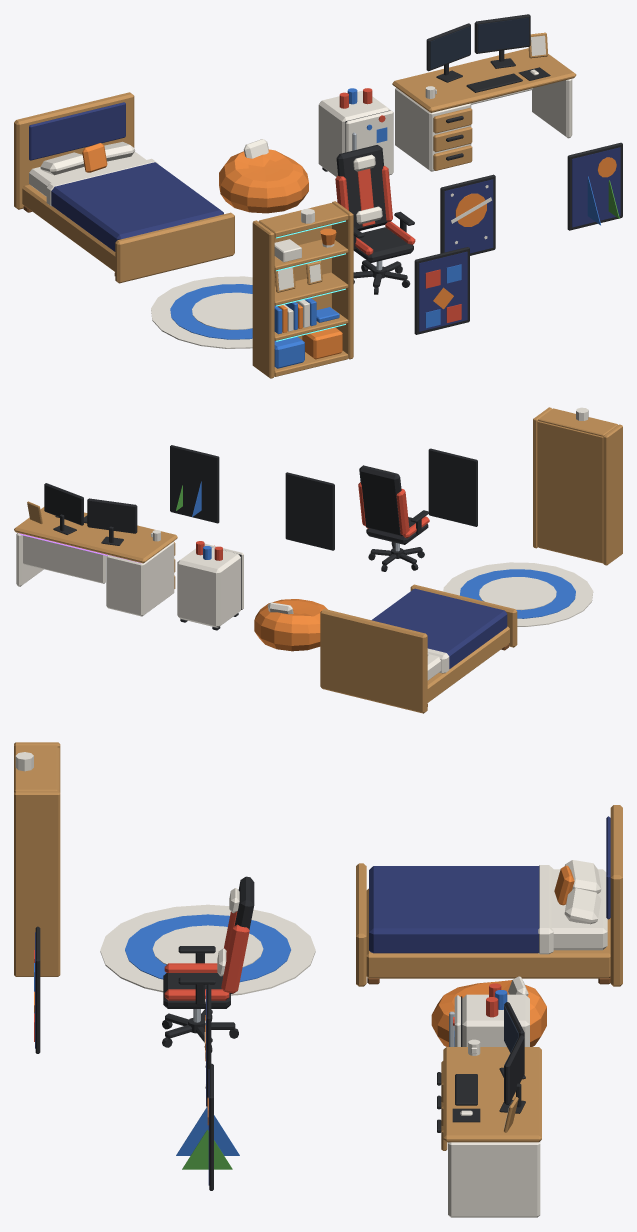
Rendered from teen-gaming-bedroom.glb.
3 renders of one model, top to bottom at view 1: azimuth 30°, elevation 25°; view 2: azimuth 150°, elevation 25°; view 3: azimuth 270°, elevation 25°, orthographic. The views are drawn at different scales.
Parts seen in each view (by area): view 1: Duvet, Footboard, Desk_Top, BeanBag_Body, Headboard_Pad, Shelf_SideL, Headboard, Poster_Mountains_Art, Desk_Pedestal, Fridge_Body, Poster_Planet_Art, Rug_Outer (+33 smaller); view 2: Headboard, Shelf_Back, Duvet, Fridge_Body, Desk_Pedestal, Desk_Top, Poster_Planet_Frame, Poster_Arcade_Frame, Poster_Mountains_Frame, BeanBag_Body, Shelf_SideL, Rug_Outer (+13 smaller); view 3: Duvet, Shelf_SideR, Desk_LegPanel, Desk_Top, Bed_Base, Rug_Outer, Rug_Ring, Mattress, Rug_Center, Fridge_Body, Headboard, BeanBag_Body (+13 smaller).
Boxes of the visible parts, x1,y1,x2,y2 form: Duvet: (51, 162, 223, 251); Footboard: (115, 212, 234, 283); Desk_Top: (392, 48, 576, 112); BeanBag_Body: (219, 149, 308, 213); Headboard_Pad: (29, 102, 125, 160); Shelf_SideL: (252, 220, 274, 378); Headboard: (14, 92, 134, 209); Poster_Mountains_Art: (572, 147, 620, 227); Desk_Pedestal: (395, 88, 471, 171); Fridge_Body: (318, 90, 389, 176); Poster_Planet_Art: (444, 179, 493, 253); Rug_Outer: (151, 276, 252, 348); Headboard: (320, 609, 427, 713); Shelf_Back: (537, 421, 603, 562); Duvet: (371, 588, 507, 668); Fridge_Body: (177, 547, 240, 627); Desk_Pedestal: (106, 541, 174, 616); Desk_Top: (14, 507, 177, 563); Poster_Planet_Frame: (285, 472, 334, 550); Poster_Arcade_Frame: (428, 448, 477, 526); Poster_Mountains_Frame: (170, 445, 219, 523); BeanBag_Body: (254, 599, 327, 651); Shelf_SideL: (603, 424, 622, 565); Rug_Outer: (443, 562, 593, 626); Duvet: (369, 866, 539, 953); Shelf_SideR: (14, 791, 60, 976); Desk_LegPanel: (448, 1142, 540, 1217); Desk_Top: (443, 1047, 541, 1142); Bed_Base: (366, 888, 610, 978); Rug_Outer: (100, 904, 315, 995); Rug_Ring: (125, 914, 290, 982); Mattress: (551, 869, 607, 950); Rug_Center: (152, 925, 263, 967); Fridge_Body: (462, 994, 529, 1046); Headboard: (610, 805, 622, 986); BeanBag_Body: (431, 980, 546, 1046).
Bounding box in the file's own units: 24.15 × 7.01 × 19.78.
